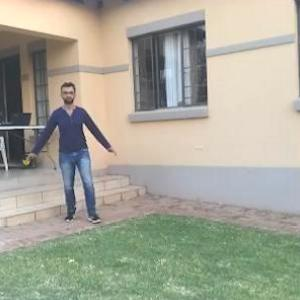land: (30, 89, 118, 229)
